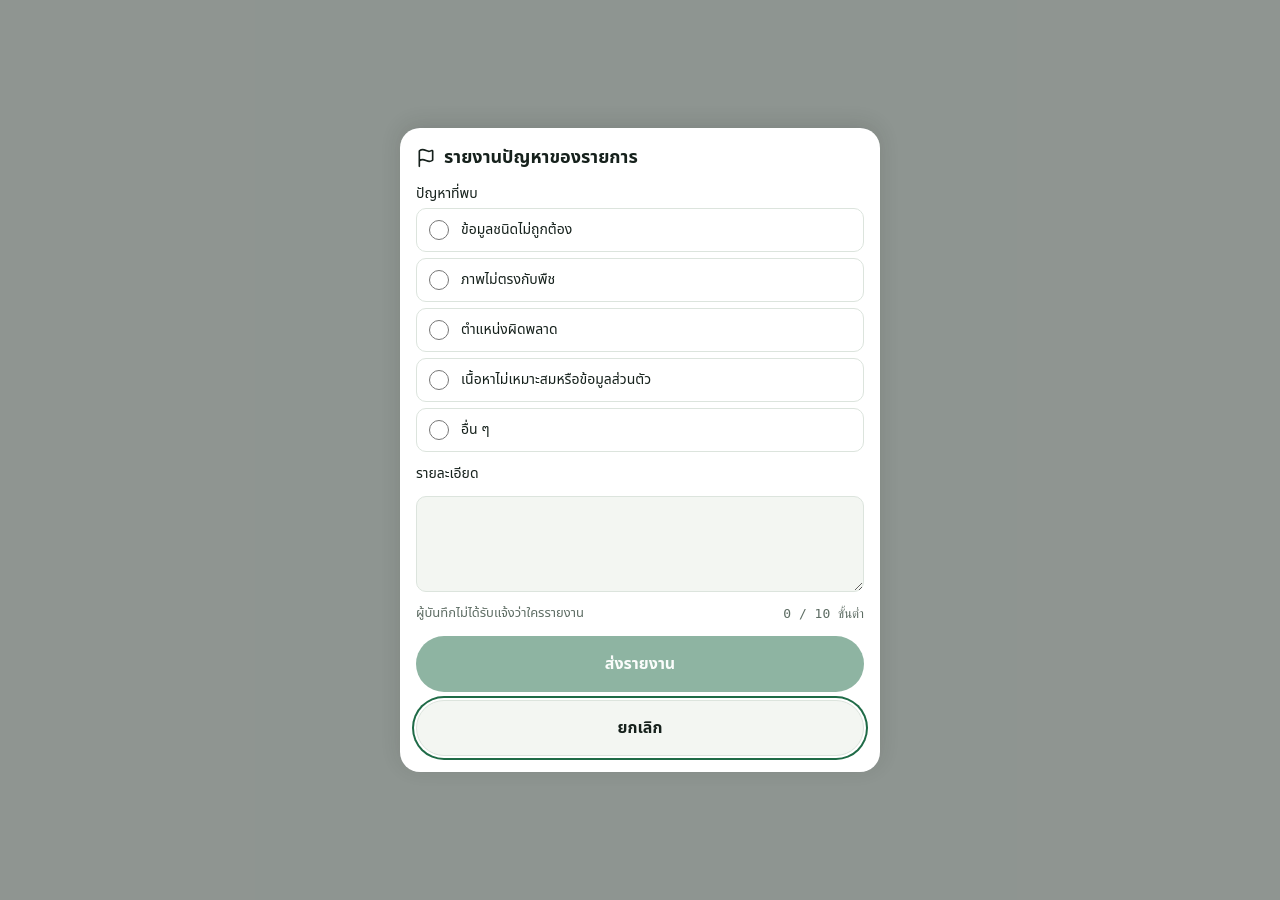
it: ReportIssueSheet › shows how long to wait when the daily limit is reached
Click the radio button labelled "ข้อมูลชนิดไม่ถูกต้อง" at x=439, y=230, box left=429, top=220, right=449, bottom=240
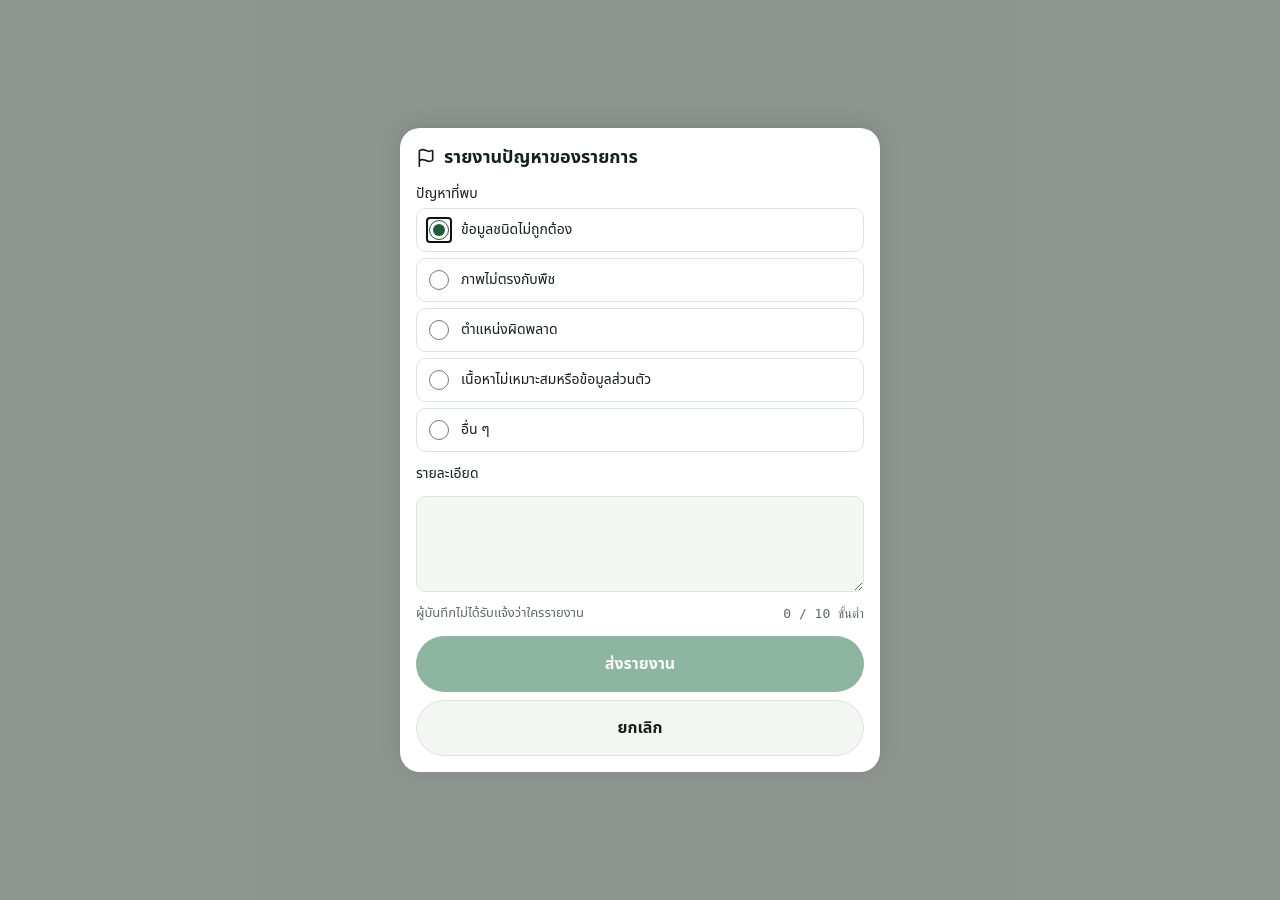
Type "ชื่อพืชอาจไม่ตรงกับรูป" into the text box labelled "รายละเอียด" at x=640, y=544, box left=416, top=496, right=864, bottom=592
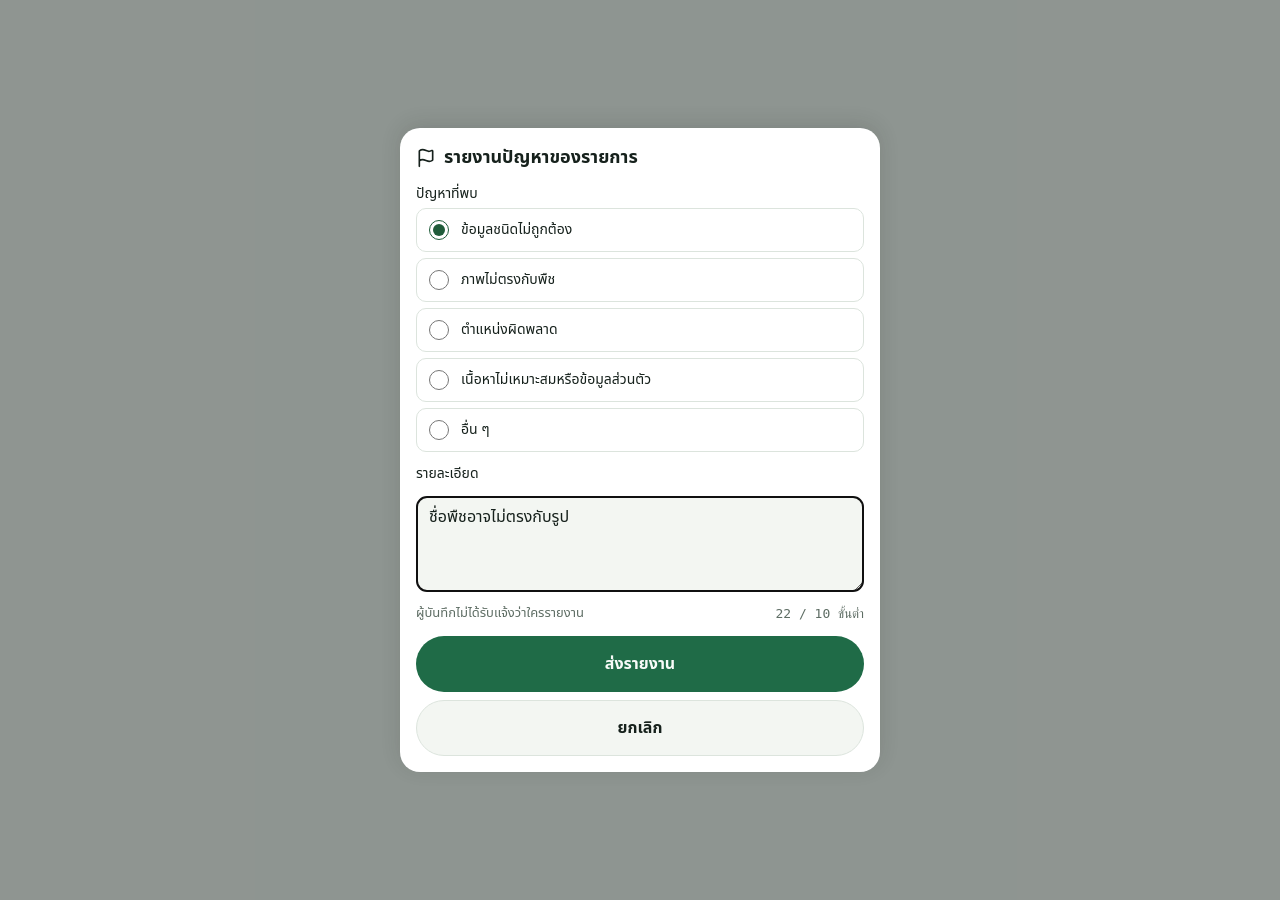
Click the button "ส่งรายงาน" at x=640, y=664, box left=416, top=636, right=864, bottom=692
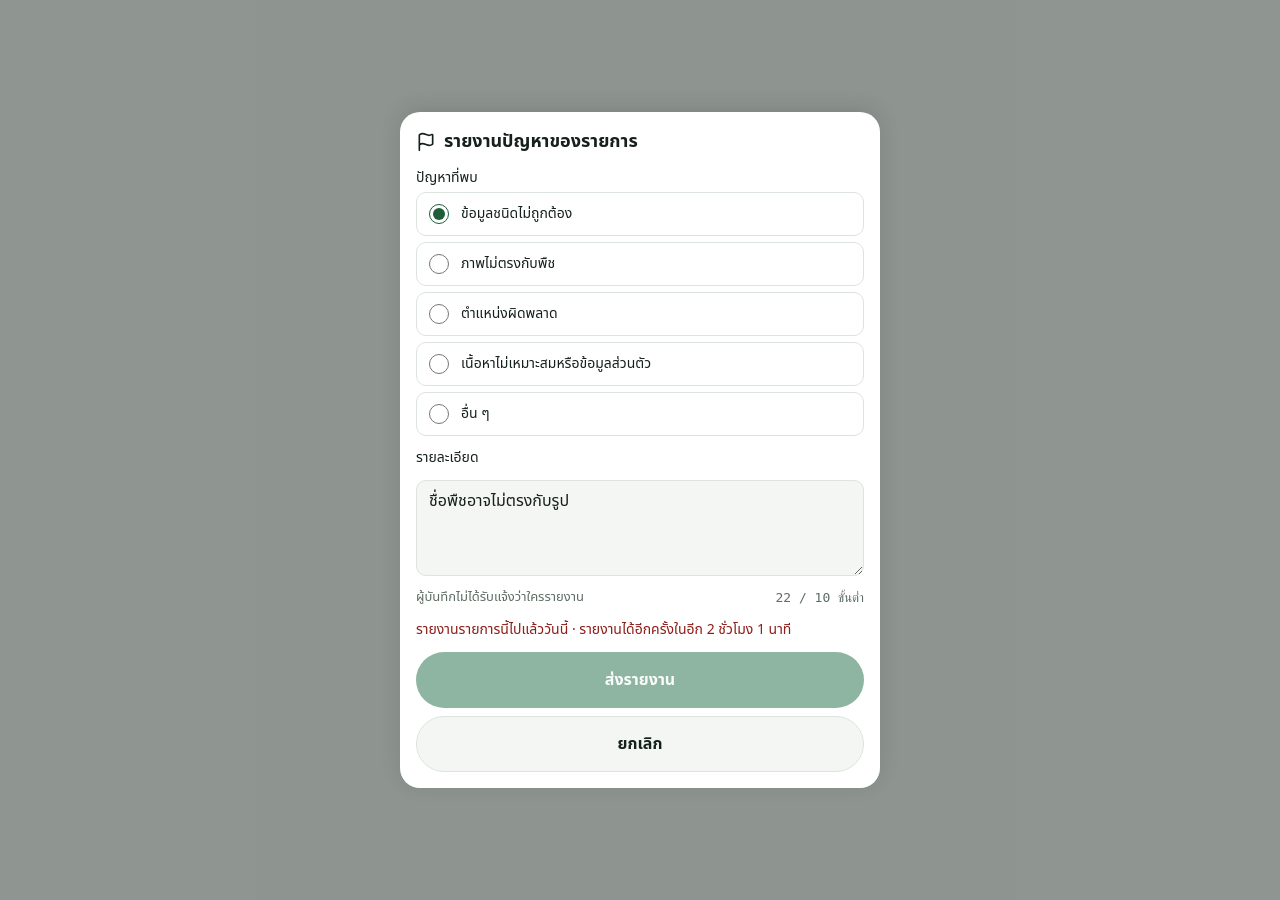
Expected: the text "รายงานรายการนี้ไปแล้ววันนี้ · รายงานได้อีกครั้งในอีก 2 ชั่วโมง 1 นาที" is shown, left=416, top=619, right=791, bottom=640
Expected: the button "ส่งรายงาน" is disabled, left=416, top=652, right=864, bottom=708
